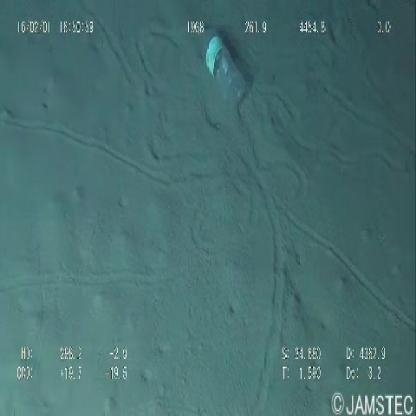Rác: (192, 19, 261, 120)
